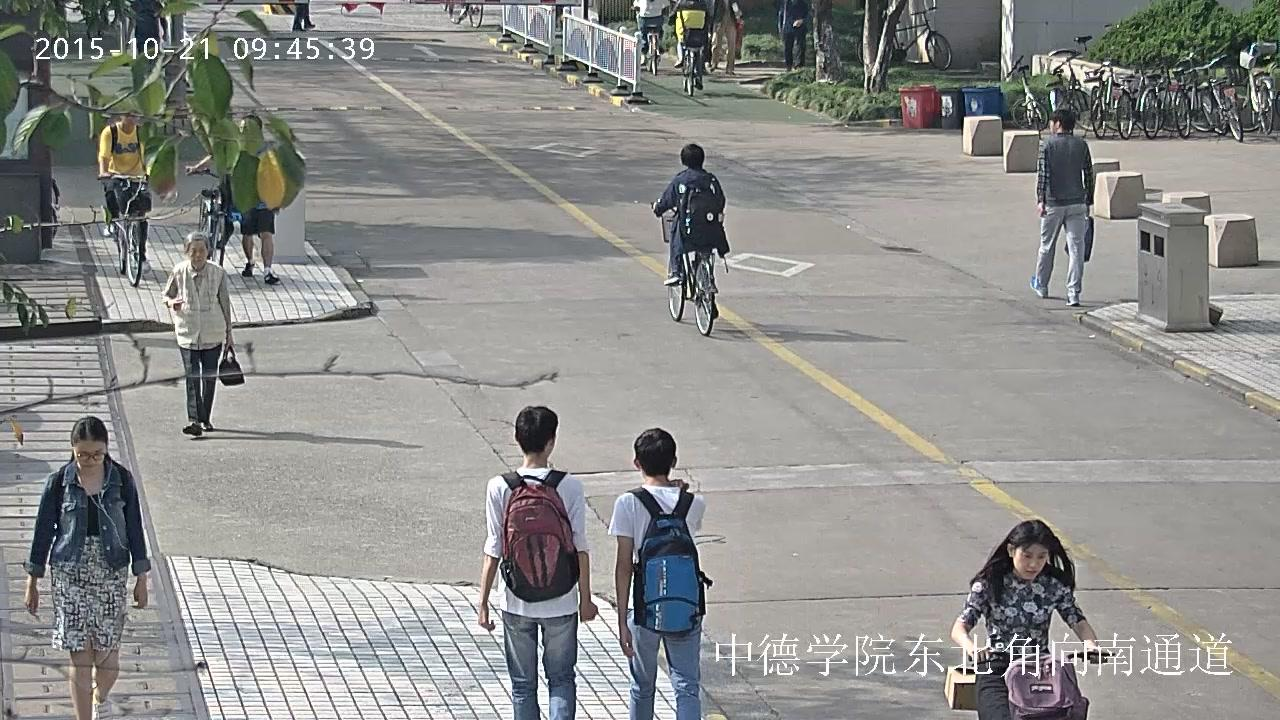face: (1013, 542, 1048, 579), (75, 441, 106, 473), (189, 241, 207, 267), (124, 104, 139, 124), (240, 120, 247, 138), (1049, 115, 1054, 132)
